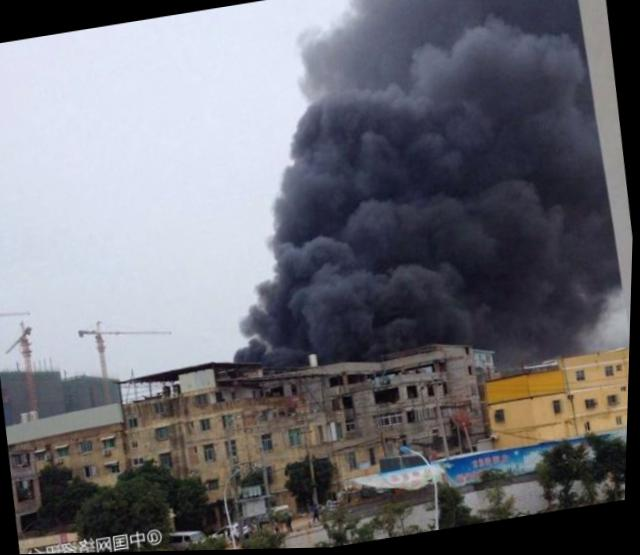smoke: (349, 0, 616, 346), (293, 34, 396, 348), (270, 160, 335, 351), (255, 294, 291, 352)
